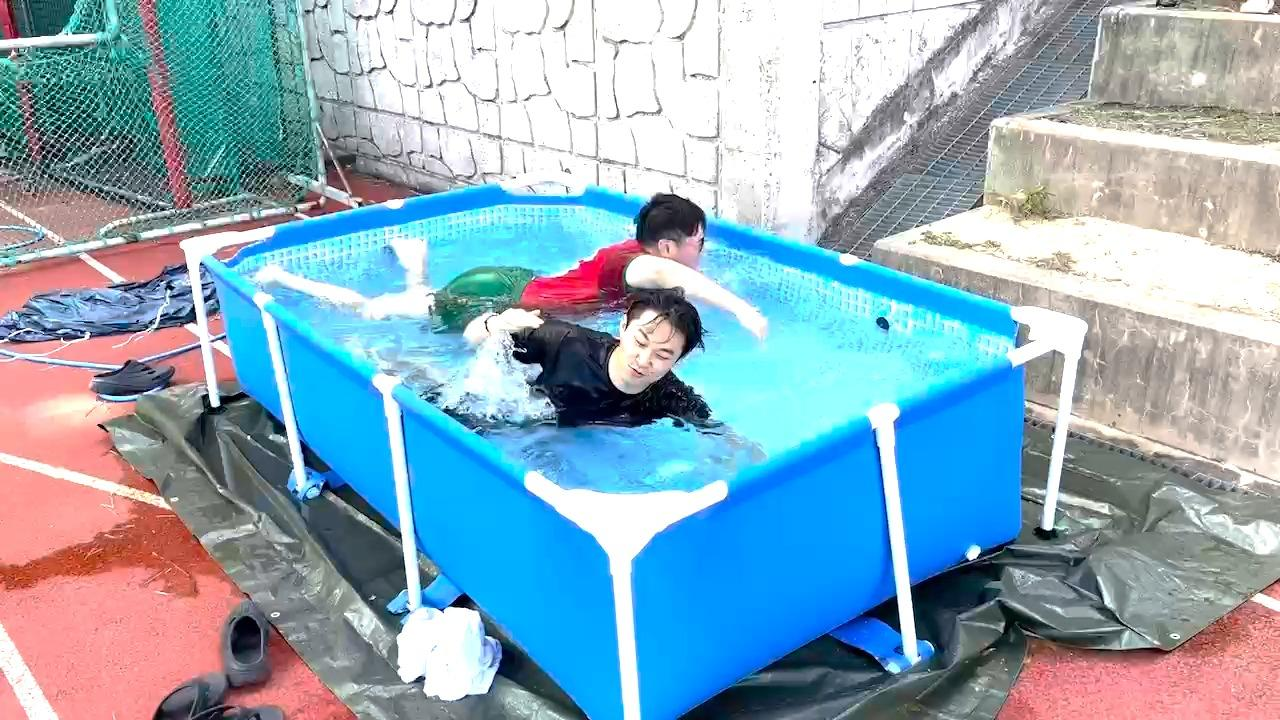Swimming: (380, 302, 769, 451), (358, 218, 777, 354)
